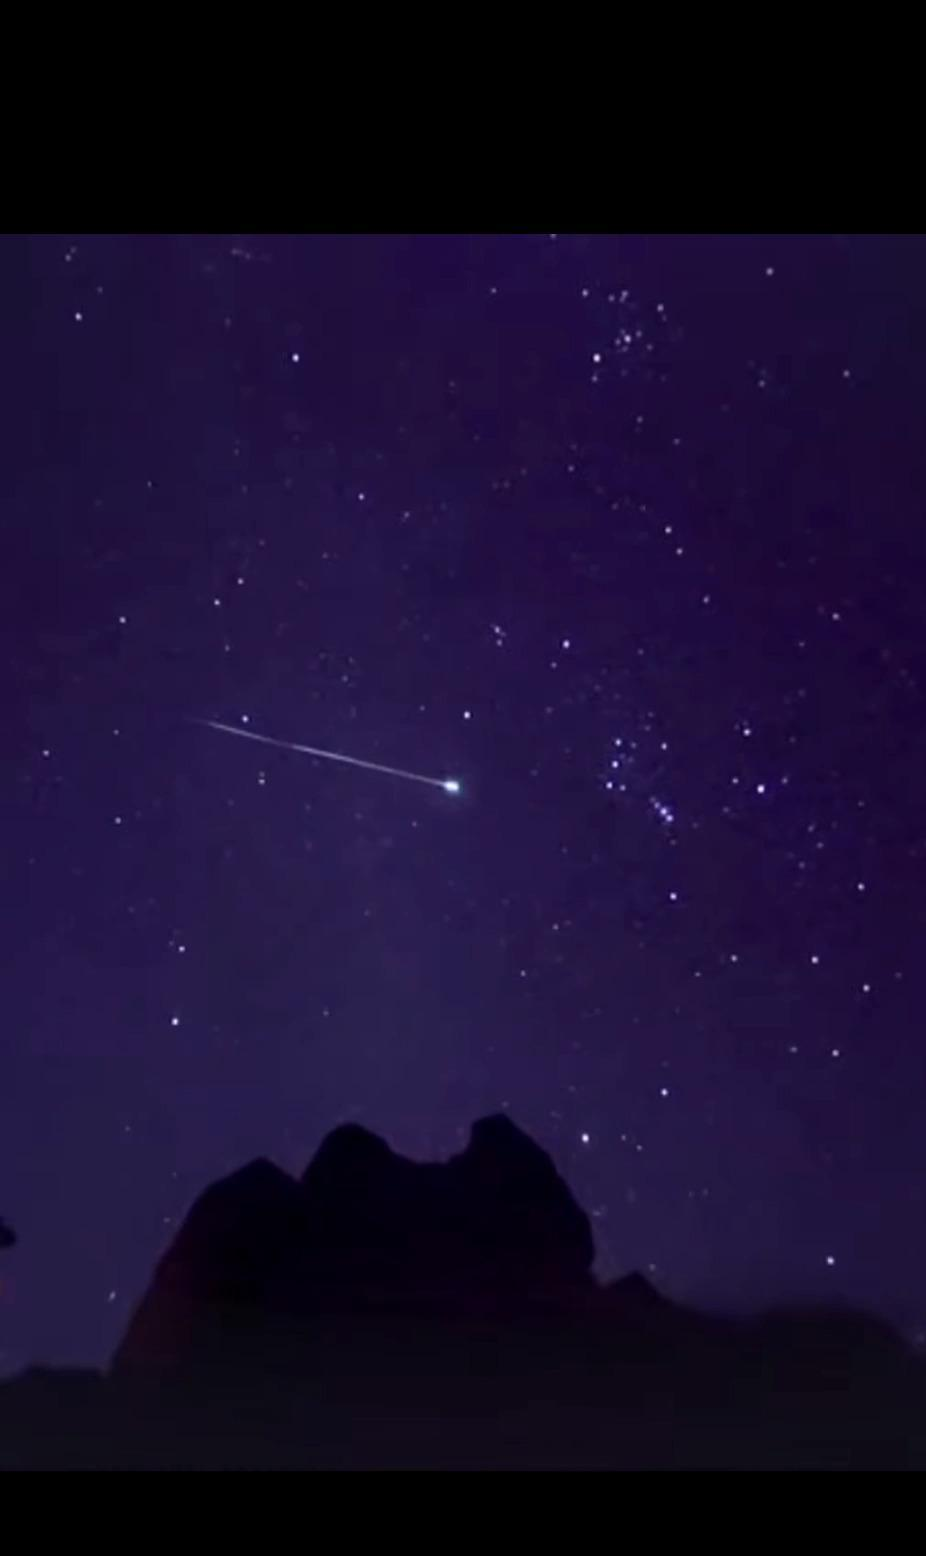meteorite: (200, 707, 475, 790)
